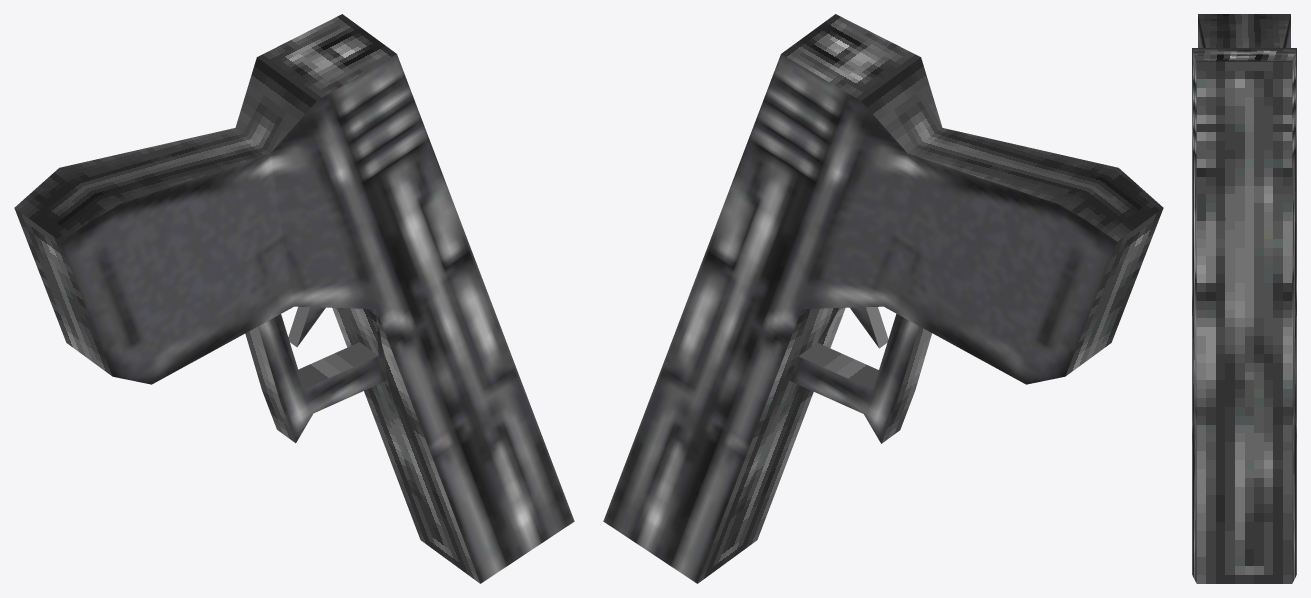
The model's file is p_9mmhandgun2.glb.
The picture shows the model from 3 angles, left to right: view 1: azimuth 30°, elevation 25°; view 2: azimuth 150°, elevation 25°; view 3: azimuth 270°, elevation 25°; orthographic projection. The views are drawn at different scales.
Parts seen in each view (by area): view 1: p_9mmhandgun2; view 2: p_9mmhandgun2; view 3: p_9mmhandgun2.
Boxes of the visible parts, box(x1,y1,x2,y2) form: p_9mmhandgun2: box(14, 14, 574, 583); p_9mmhandgun2: box(603, 14, 1163, 583); p_9mmhandgun2: box(1192, 14, 1296, 583).
Size of the model in its own units: 7.76 by 7.97 by 1.58.
Materials: 4 (4 with a texture image).
